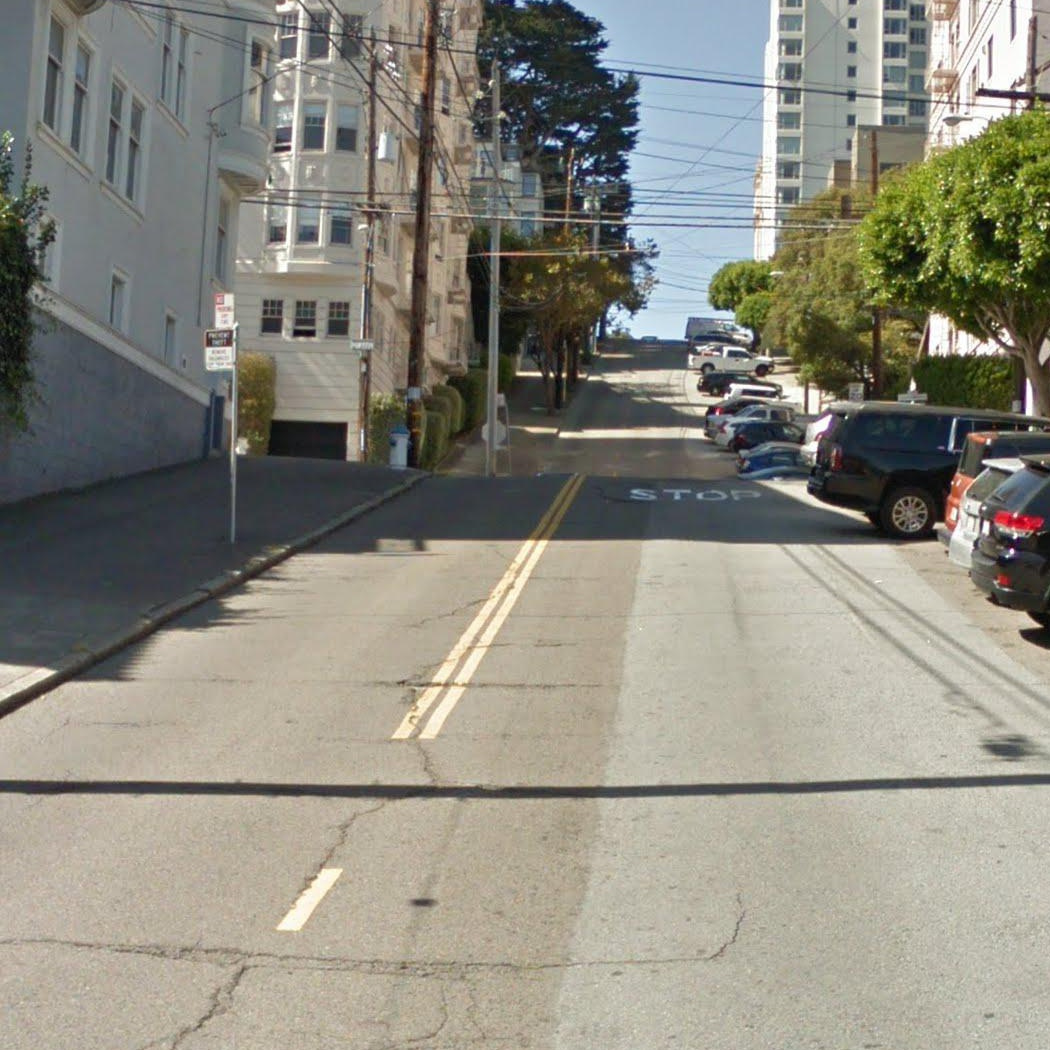No Parking Anytime: (213, 292, 235, 330)
